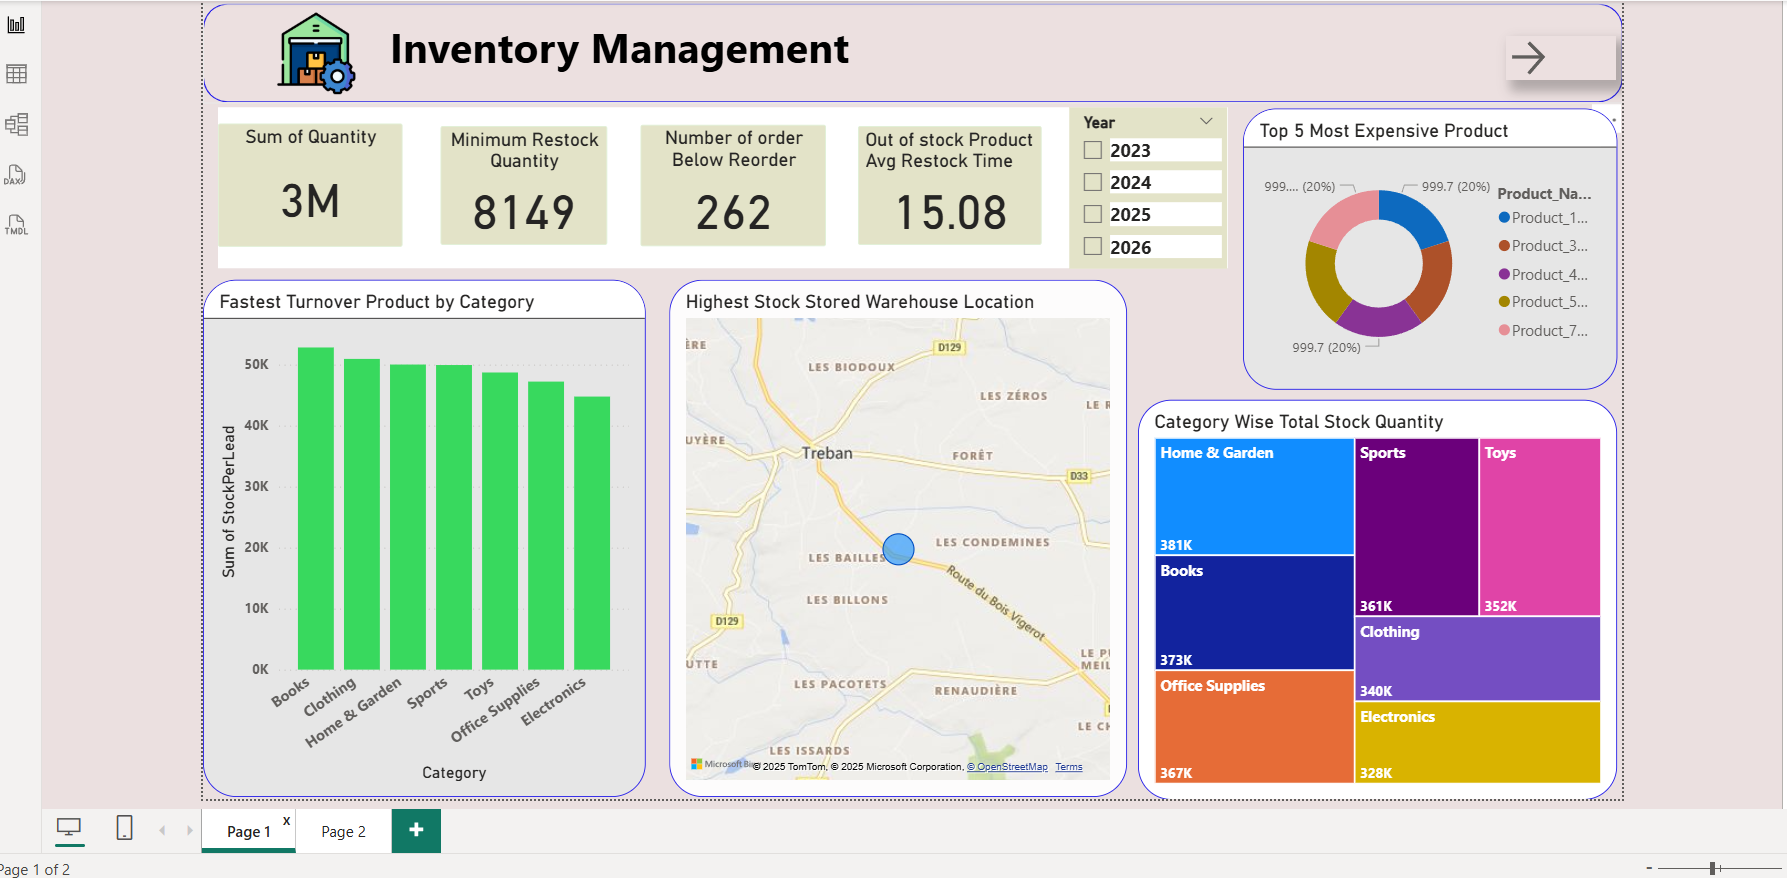

The dashboard page shown, as its layout file describes it:
{"tool":"powerbi","page":{"name":"Page 1","canvas":[1280,720],"ordinal":0},"visuals":[{"type":"card","title":"Sum of Quantity","fields":{"Values":["Sum(Inventory Management.Stock_Quantity)"]},"box":[13.8,110.8,166,111.1],"z":0,"group":"g1"},{"type":"treemap","title":"Category Wise Total Stock Quantity","fields":{"Group":["Inventory Management.Category"],"Values":["Sum(Inventory Management.Stock_Quantity)"]},"box":[842.5,359.5,432.2,360.9],"z":0},{"type":"columnChart","title":"Fastest Turnover Product by Category","fields":{"Category":["Inventory Management.Category"],"Y":["Sum(Inventory Management.StockPerLead)"]},"box":[0,251.1,399.3,466.6],"z":1000},{"type":"shape","box":[0,2.7,1280.3,89.2],"z":2000},{"type":"donutChart","title":"Top 5 Most Expensive Product","fields":{"Y":["Sum(Inventory Management.Unit_Price)"],"Series":["Inventory Management.Product_Name"]},"box":[937.2,97.4,337.6,253.9],"z":3000},{"type":"textbox","box":[0,11,761.6,64.5],"z":4000},{"type":"map","title":"Highest Stock Stored Warehouse Location","fields":{"Category":["Inventory Management.Warehouse_Location"],"Size":["Sum(Inventory Management.Stock_Quantity)"],"X":["Avg(Inventory Management.Longitude)"]},"box":[419.9,251.1,413,466.6],"z":5000},{"type":"image","box":[22,5.5,161.9,83.7],"z":6000},{"type":"card","title":"Minimum Restock Quantity","fields":{"Values":["Inventory Management.MINIMUM ORDER QUATITY TO RESTOCK1"]},"box":[214.7,112.8,150.2,107],"z":6000,"group":"g1"},{"type":"card","title":"Number of order Below Reorder","fields":{"Values":["Sum(Inventory Management.Column)"]},"box":[394.5,111.4,167.1,109.8],"z":7000,"group":"g1"},{"type":"group","id":"g1","title":"Group 1","box":[13.8,96,910.1,145.5],"z":7000},{"type":"card","title":"Out of stock Product Avg Restock Time","fields":{"Values":["Avg(Inventory Management.Lead_Time_Days)"]},"box":[590.5,112.8,165.7,107],"z":8000,"group":"g1"},{"type":"actionButton","box":[1174.6,31.6,100.2,39.8],"z":8000},{"type":"slicer","fields":{"Values":["Inventory Management.Last_Restock_Date.Variation.Date Hierarchy.Year"]},"box":[781.2,96,142.7,145.5],"z":11003,"group":"g1"}]}

Visuals, with their boxes on the page's 1280x720 design canvas (x1, y1, x2, y2). These are canvas units, not pixel positions in the 1787x878 screenshot, which may show the page scaled, cropped or inside an application window:
"Sum of Quantity" card: region(14, 111, 180, 222)
"Category Wise Total Stock Quantity" treemap: region(842, 360, 1275, 720)
"Fastest Turnover Product by Category" columnChart: region(0, 251, 399, 718)
shape: region(0, 3, 1280, 92)
"Top 5 Most Expensive Product" donutChart: region(937, 97, 1275, 351)
textbox: region(0, 11, 762, 76)
"Highest Stock Stored Warehouse Location" map: region(420, 251, 833, 718)
image: region(22, 6, 184, 89)
"Minimum Restock Quantity" card: region(215, 113, 365, 220)
"Number of order Below Reorder" card: region(394, 111, 562, 221)
"Group 1" group: region(14, 96, 924, 242)
"Out of stock Product Avg Restock Time" card: region(590, 113, 756, 220)
actionButton: region(1175, 32, 1275, 71)
slicer - Inventory Management.Last_Restock_Date.Variation.Date Hierarchy.Year: region(781, 96, 924, 242)
